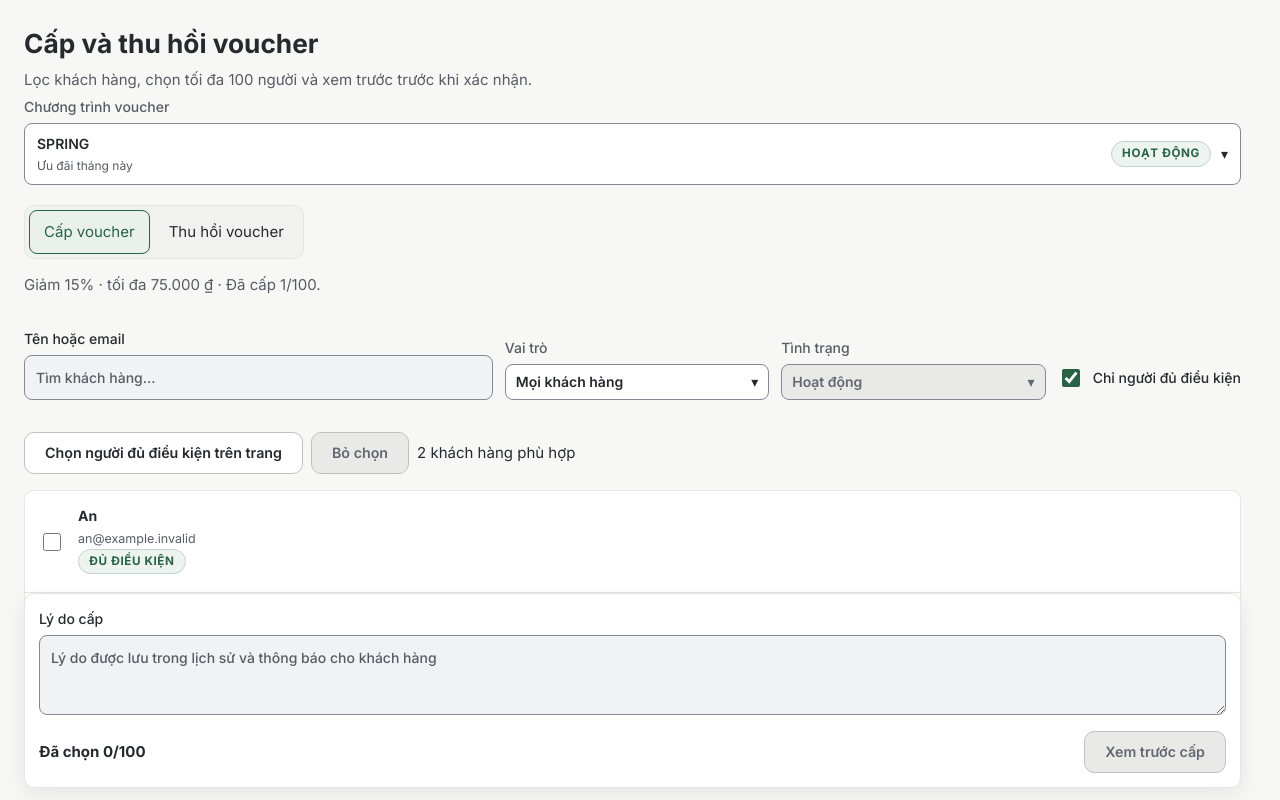
Test: KTV hàng loạt › chỉ chọn người đủ điều kiện và xác nhận sau khi xem trước
The image size is (1280, 800).
Expected: the text "an@example.invalid" is shown, [78,531,196,546]
Expected: the checkbox named "Chọn Bình · binh@example.invalid" is disabled, [43,644,61,662]
Click the button "Chọn người đủ điều kiện trên trang".
click(164, 453)  # box [24,432,303,474]
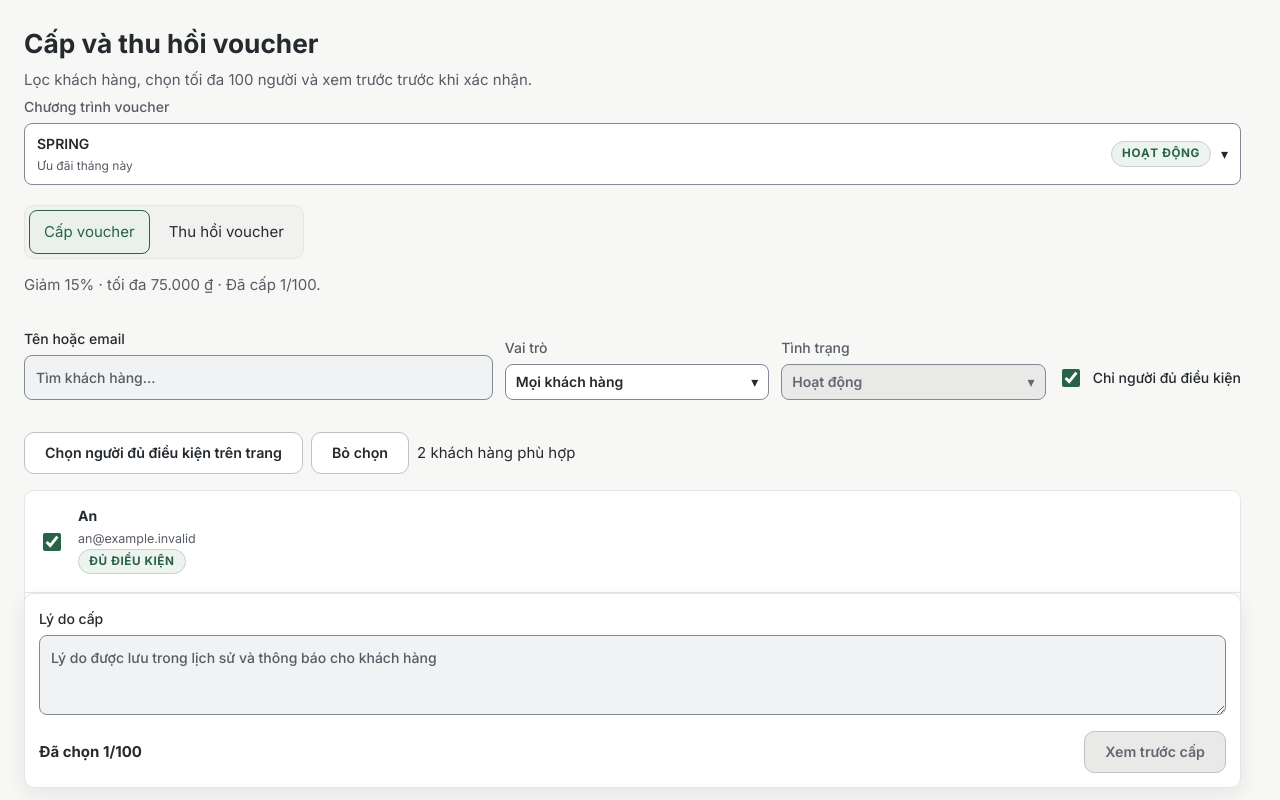
Type "Ưu đãi khách hàng" into the text box labelled "Lý do cấp".
click(632, 675); type("Ưu đãi khách hàng")  # box [39,635,1226,715]
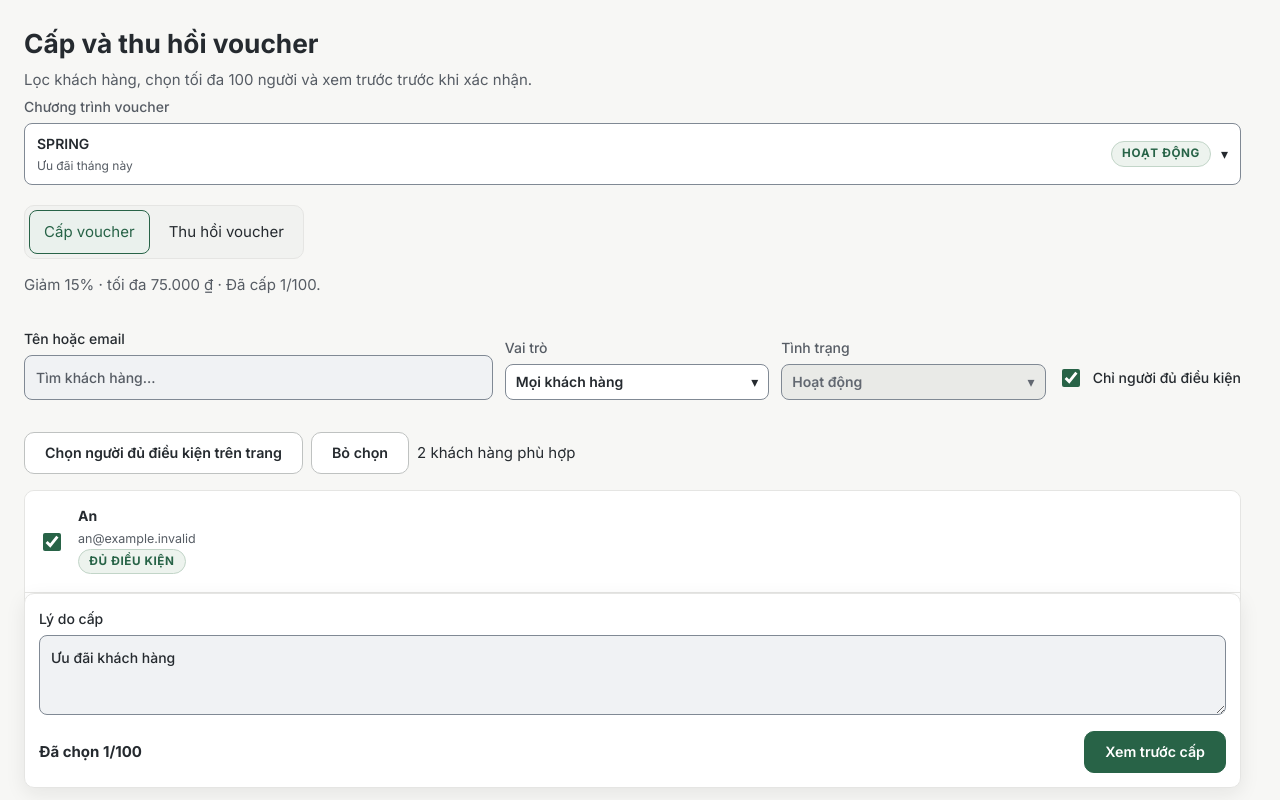
Click the button "Xem trước cấp".
click(1155, 752)  # box [1084,731,1226,773]
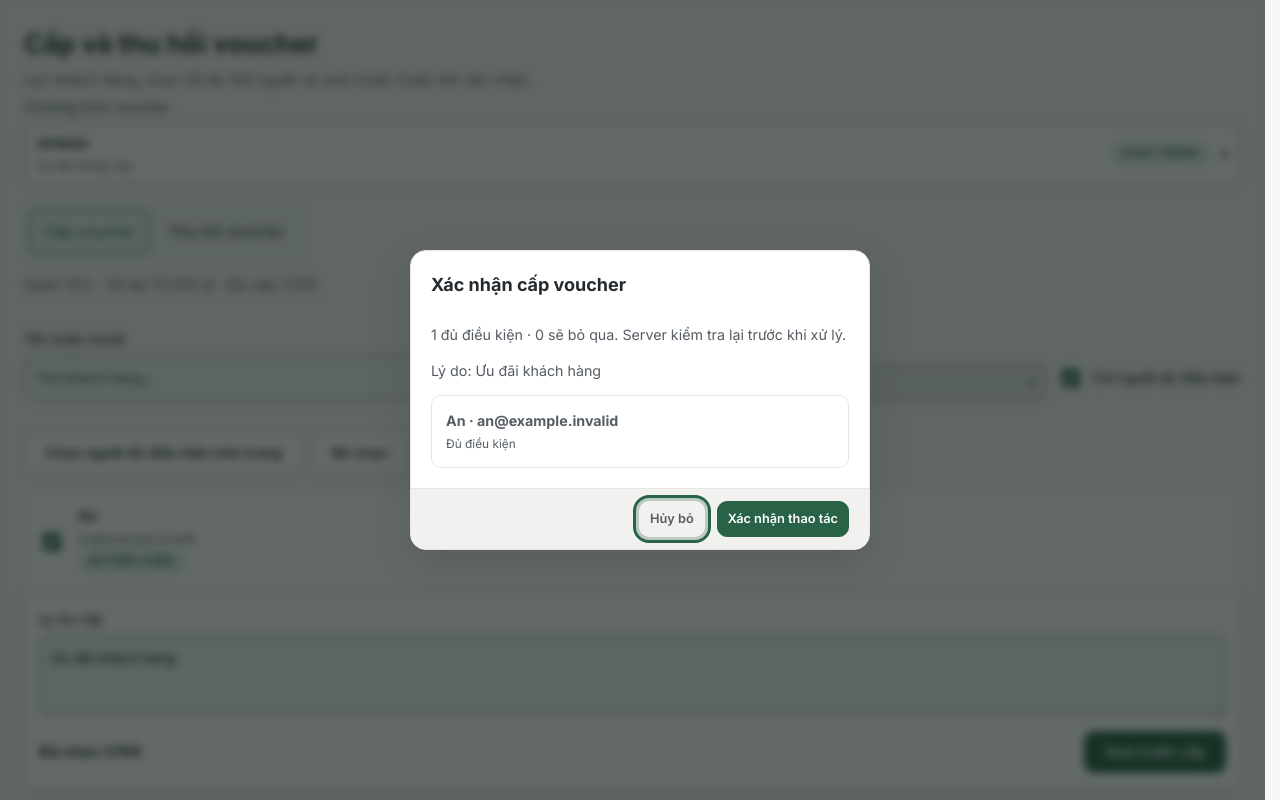
Expected: the dialog is shown
Click the button "Xác nhận thao tác".
click(783, 519)  # box [717,501,849,537]
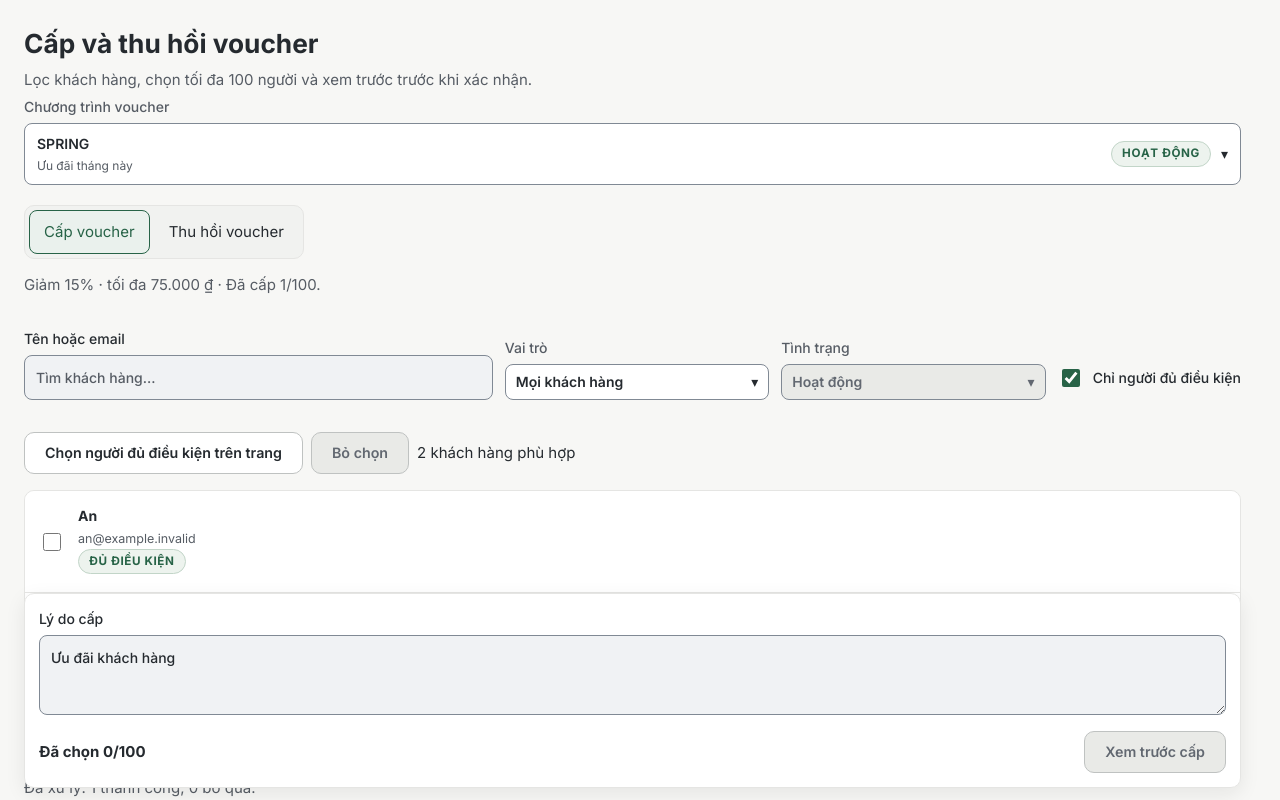
Expected: the text "Đã xử lý: 1 thành công, 0 bỏ qua." is shown, [24,778,256,797]
